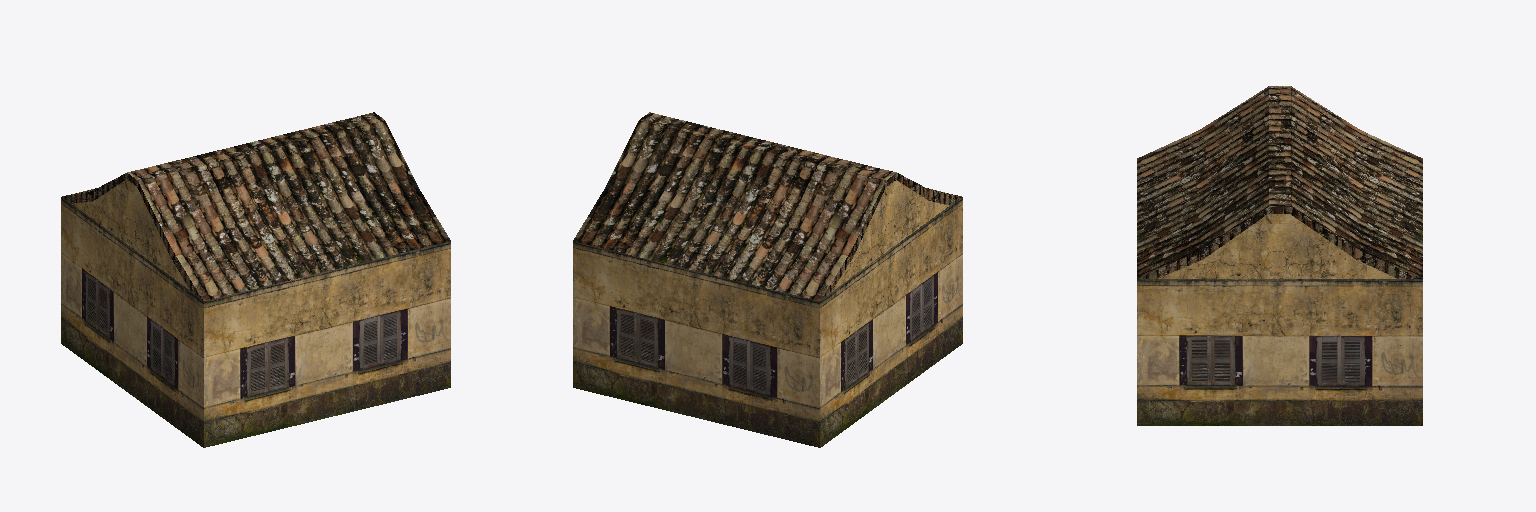
The picture shows the model from 3 angles: view 1: azimuth 30°, elevation 25°; view 2: azimuth 150°, elevation 25°; view 3: azimuth 270°, elevation 25°; orthographic projection.
Parts seen in each view (by area): view 1: mesh01; view 2: mesh01; view 3: mesh01.
Boxes of the visible parts, x1,y1,x2,y2 form: mesh01: [61, 112, 450, 447]; mesh01: [573, 112, 962, 447]; mesh01: [1137, 86, 1422, 425].
Bounding box in the file's own units: 100 × 85.01 × 100.
Materials: 1 (1 with a texture image).